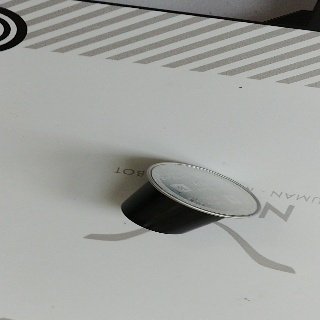capsule_10: (120, 161, 262, 235)
